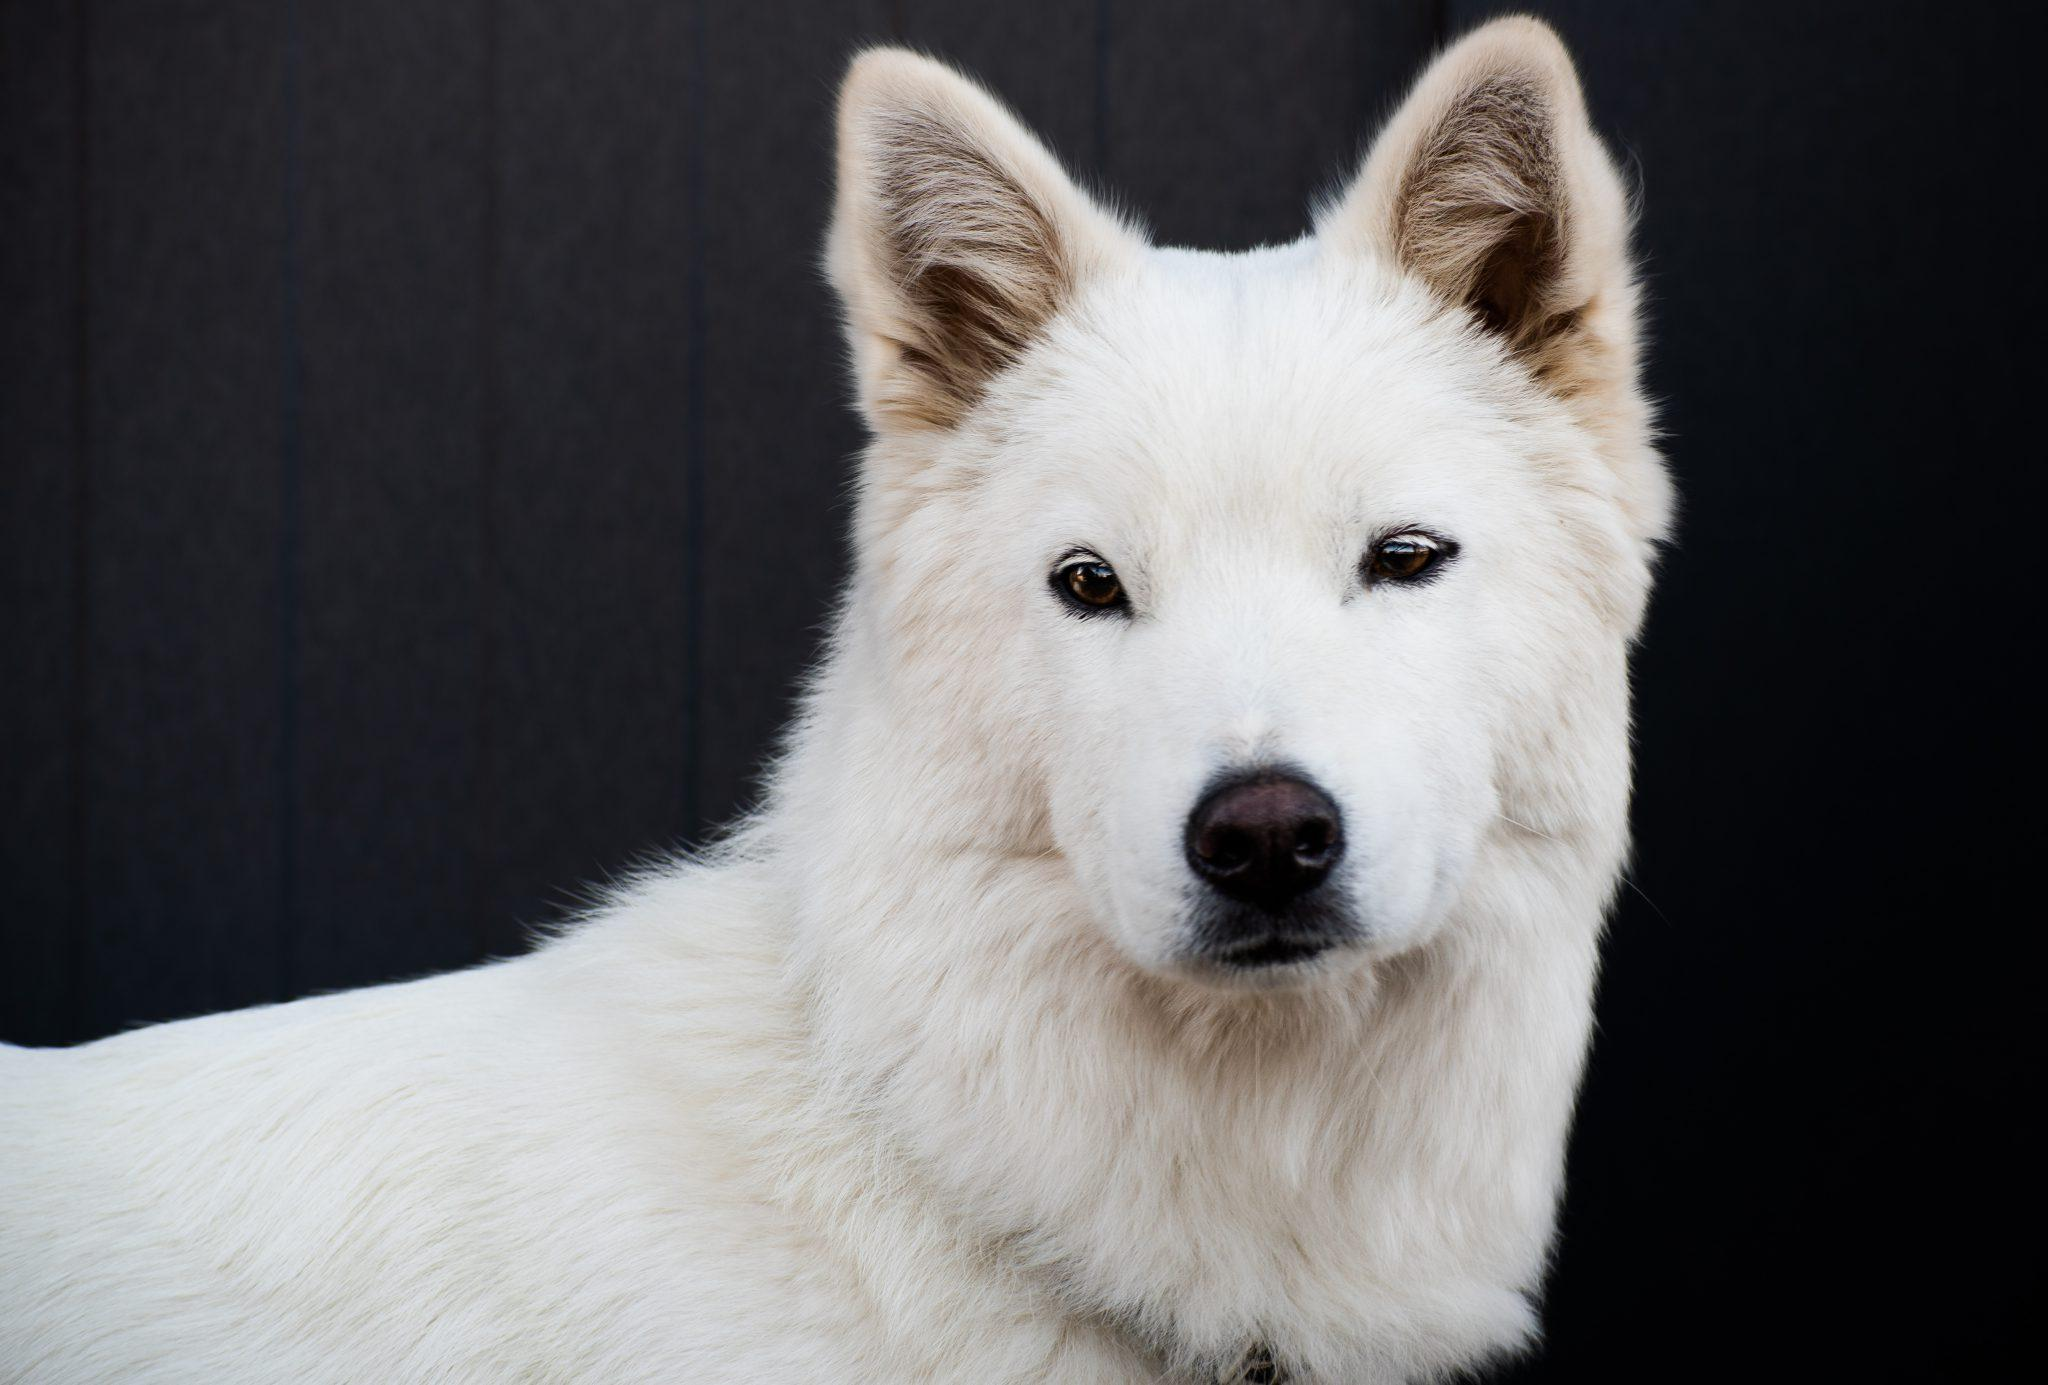dog: (733, 40, 1680, 1377)
